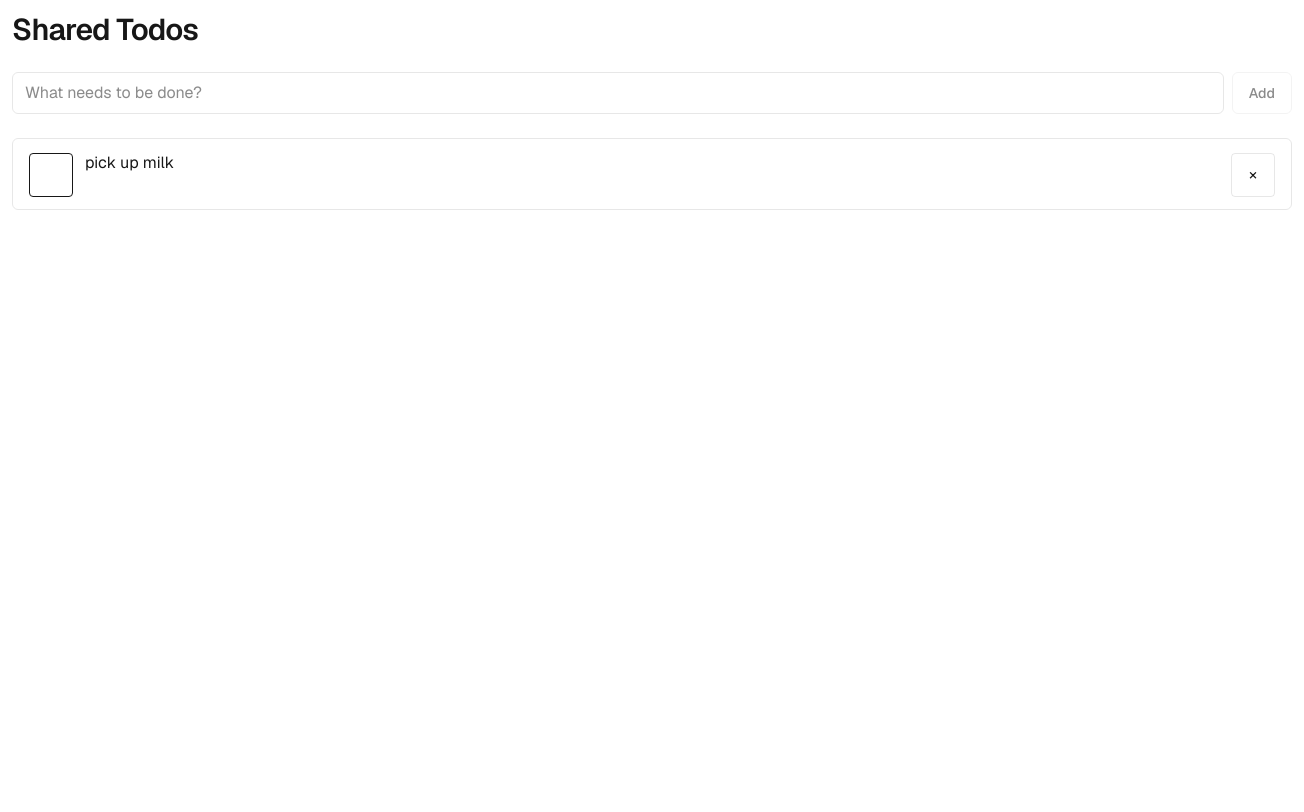
Scenario: <TodoApp /> mutation-failure toasts › delete-failure shows the mapped (not raw) message in the Toast
This screenshot has width=1304, height=812.
Click the button named "delete: pick up milk" at (1253, 175), box 1231,153 -> 1275,197
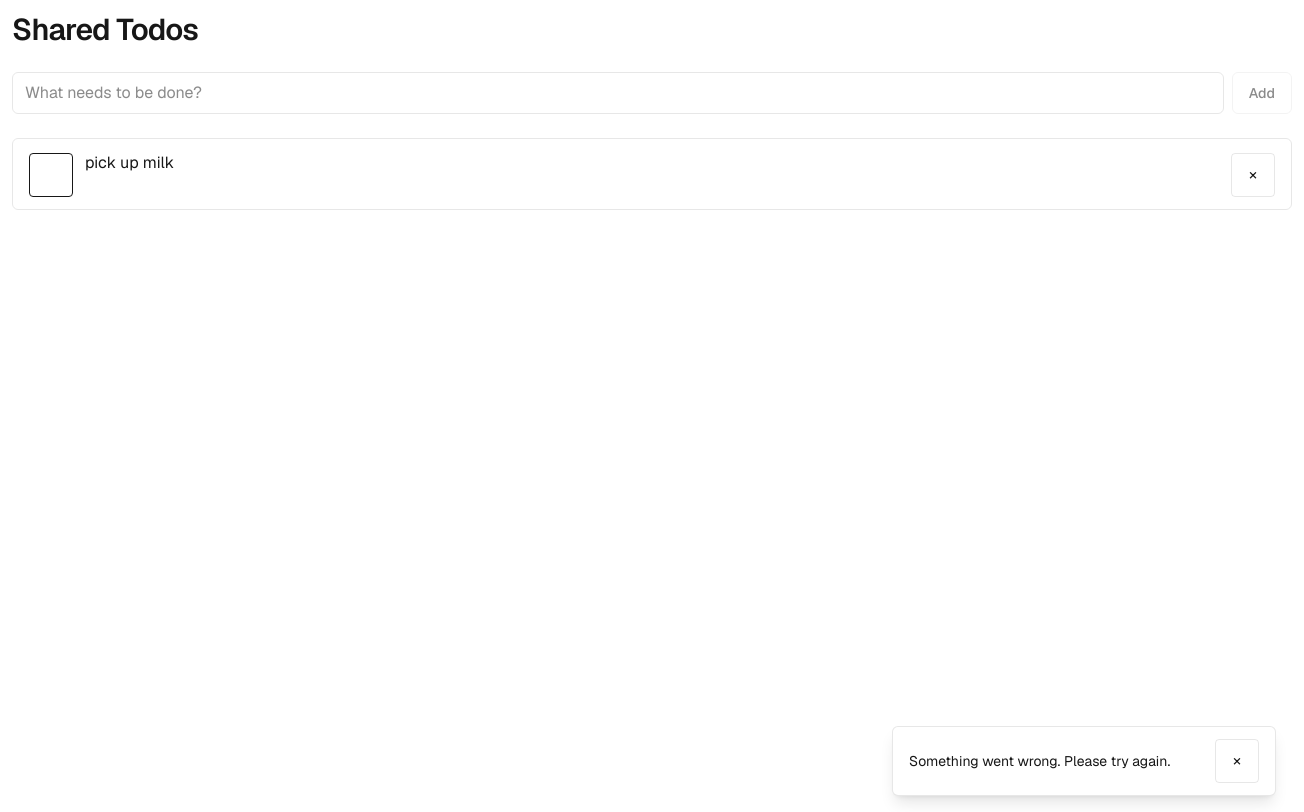
Now the text with test id "toast-description" reads "Something went wrong. Please try again.", box 909,752 -> 1170,770
